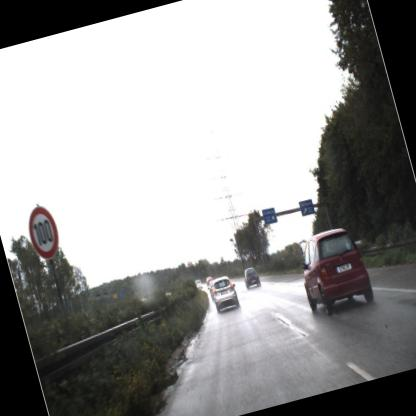prohibitory: (17, 197, 68, 270)
